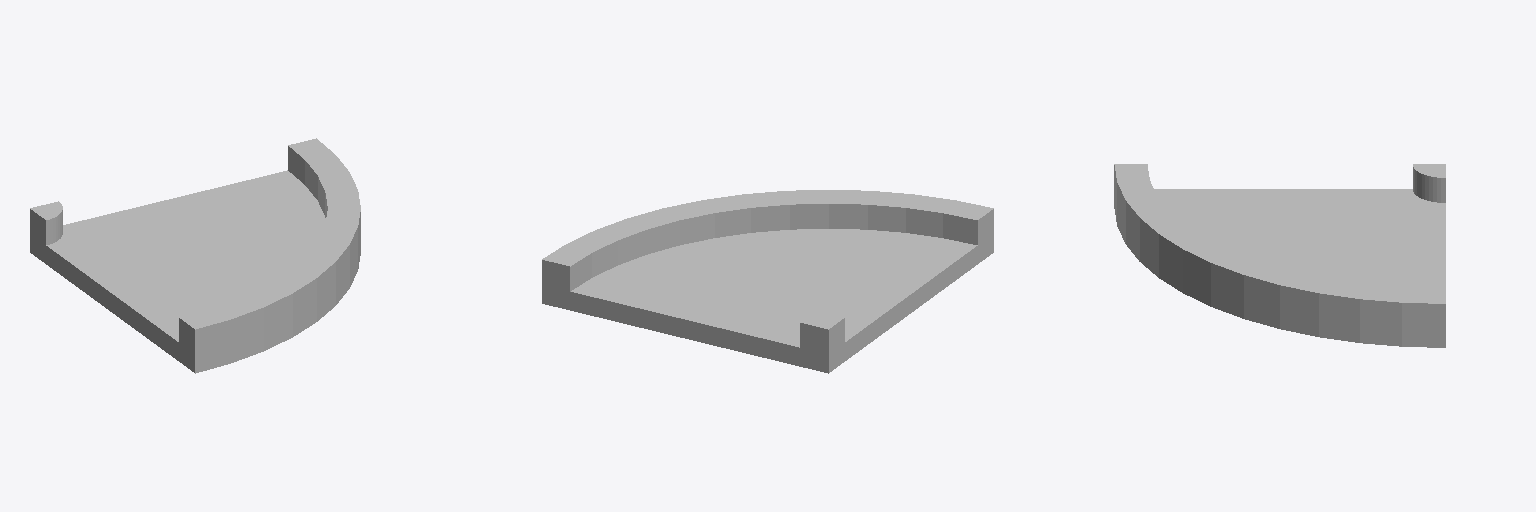
The model's file is roundCornerA.obj.
The picture shows the model from 3 angles: view 1: azimuth 30°, elevation 25°; view 2: azimuth 150°, elevation 25°; view 3: azimuth 270°, elevation 25°; orthographic projection.
Parts seen in each view (by area): view 1: roundCornerA; view 2: roundCornerA; view 3: roundCornerA.
Boxes of the visible parts, x1,y1,x2,y2 form: roundCornerA: [30, 138, 360, 373]; roundCornerA: [542, 190, 993, 373]; roundCornerA: [1114, 164, 1445, 347].
Bounding box in the file's own units: 0.9999 × 0.1467 × 0.9999.